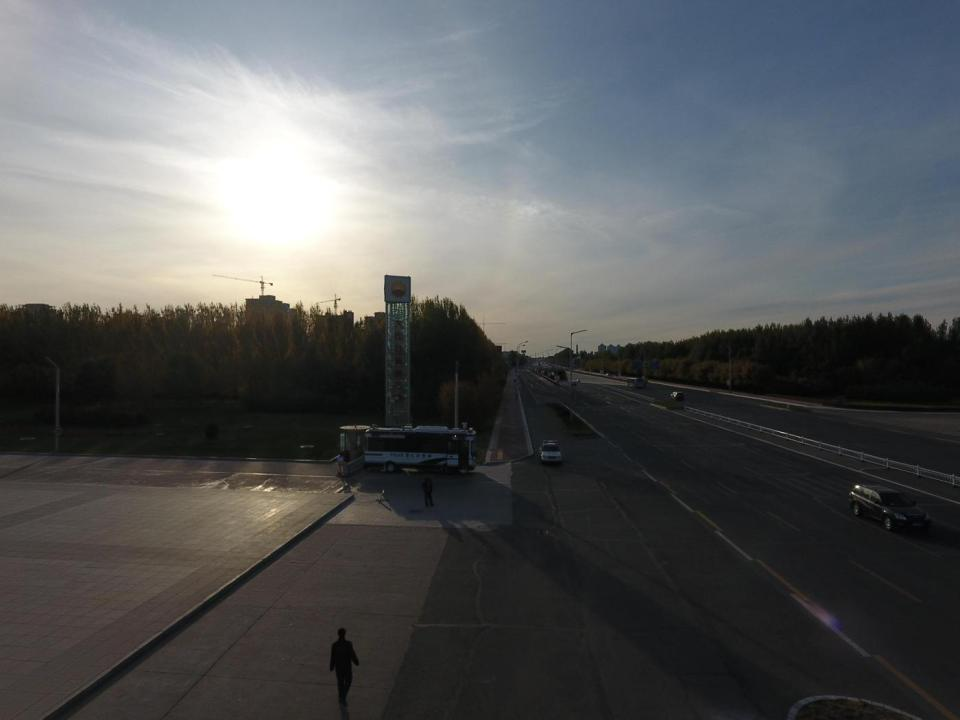bus: (356, 423, 478, 475), (625, 377, 646, 388)
car: (848, 481, 933, 535), (538, 436, 564, 466), (670, 391, 684, 401), (570, 381, 578, 386)
